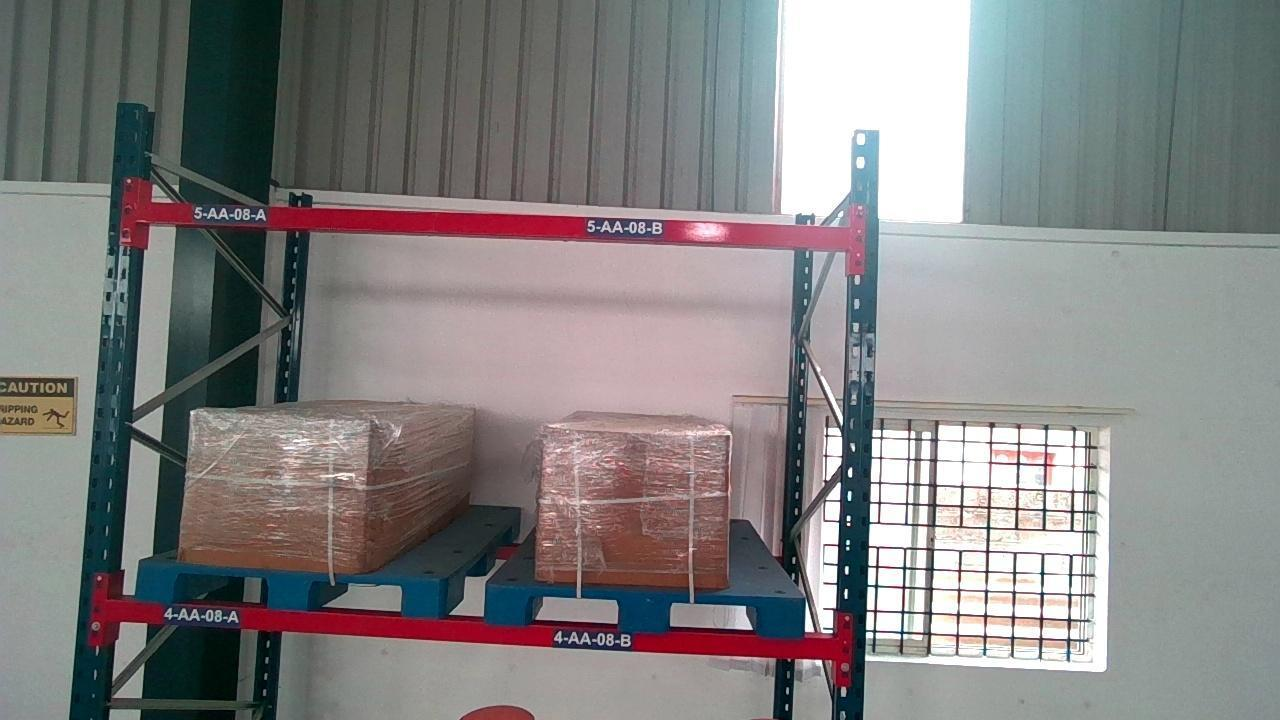h_rack: (122, 604, 841, 662), (139, 199, 856, 247)
small_pallet: (487, 588, 808, 632), (137, 567, 441, 610)
